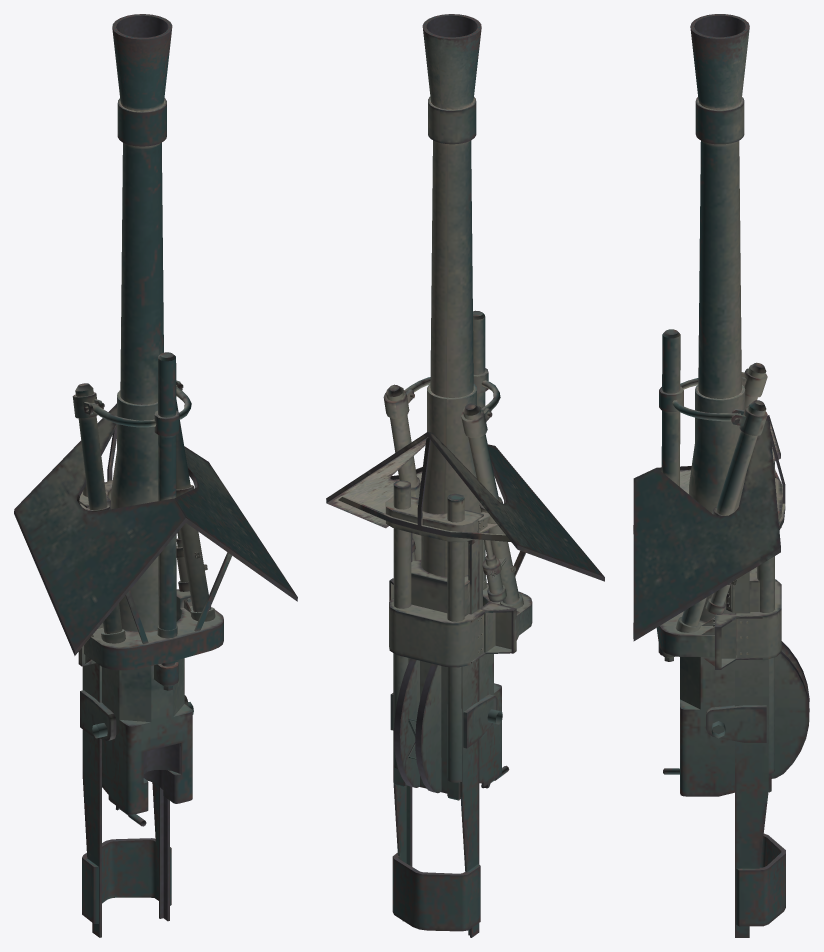
Rendered from Gun_01.glb.
3 views of the same model, side by side, from view 1: azimuth 30°, elevation 25°; view 2: azimuth 150°, elevation 25°; view 3: azimuth 270°, elevation 25° (orthographic).
Parts seen in each view (by area): view 1: set_0_group_0; view 2: set_0_group_0; view 3: set_0_group_0.
Boxes of the visible parts, bbox=[...] form: set_0_group_0: bbox=[14, 14, 297, 937]; set_0_group_0: bbox=[326, 14, 604, 937]; set_0_group_0: bbox=[633, 14, 809, 937].
Bounding box in the file's own units: 1.05 × 4.07 × 0.7266.
1 material, 1 textured.
